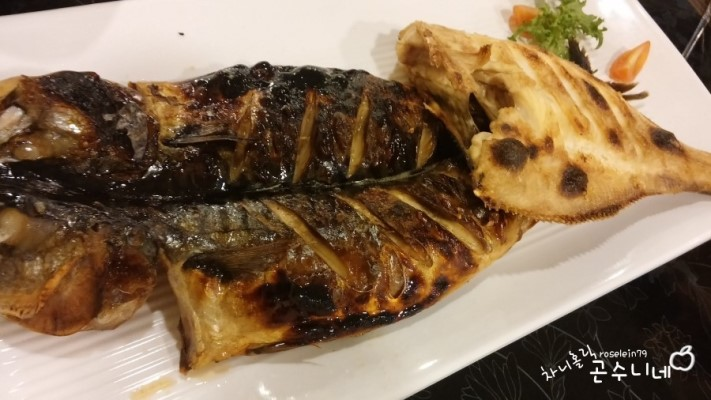godeung-eogu-i: (0, 173, 540, 368), (391, 19, 711, 222)
